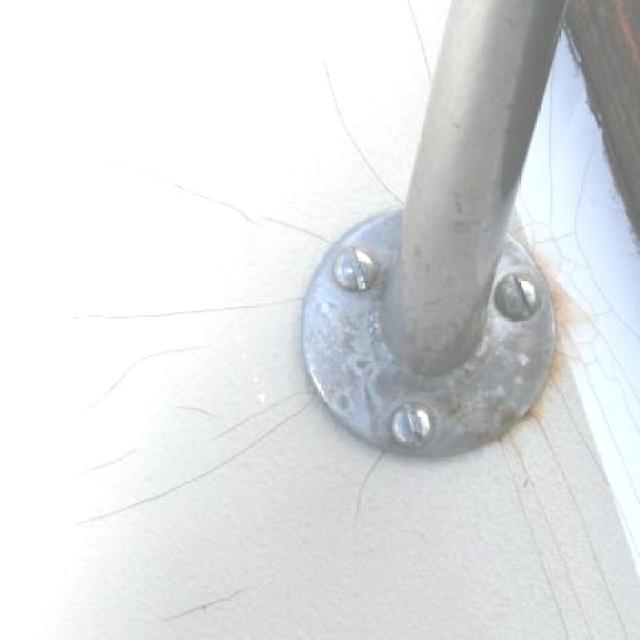crack: (80, 404, 314, 537), (167, 157, 330, 238), (326, 63, 414, 208), (81, 341, 227, 407), (73, 292, 289, 329), (203, 390, 314, 443), (160, 583, 266, 626), (354, 435, 392, 554), (138, 378, 207, 426), (87, 440, 149, 471)
